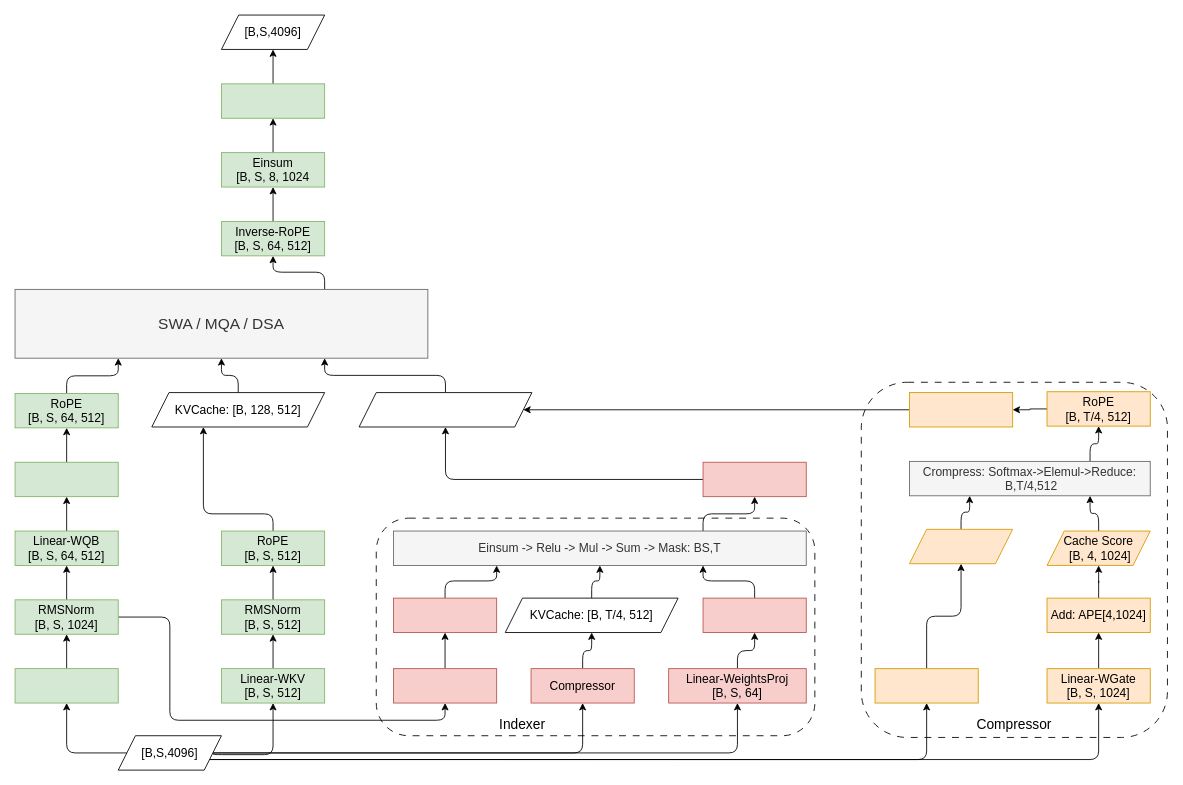
Some shapes in this 1183 by 785 pixel diagram are drawn without their labels. The centre of each missing label's shape, as x and y in pixels:
"Cache State [B, 4, 1024]" belongs at point (961, 546).
"KVCache: [B, 512, 512]" belongs at point (445, 409).
"Linear-WKV [B, S, 1024]" belongs at point (926, 685).
"Linear-WOB [B,S,4096]" belongs at point (273, 100).
"Linear-WQA [B, S, 1024]" belongs at point (66, 685).
"Linear-WQB [B, S, 64, 128]" belongs at point (445, 685).
"Mul [B, S, 64]" belongs at point (754, 615).
"RMSNorm [B, S, 64, 512]" belongs at point (66, 479).
"RMSNorm [B, T/4, 512]" belongs at point (961, 409).
"RoPE [B, S, 64, 128]" belongs at point (445, 615).
"TopK: 512" belongs at point (754, 479).
